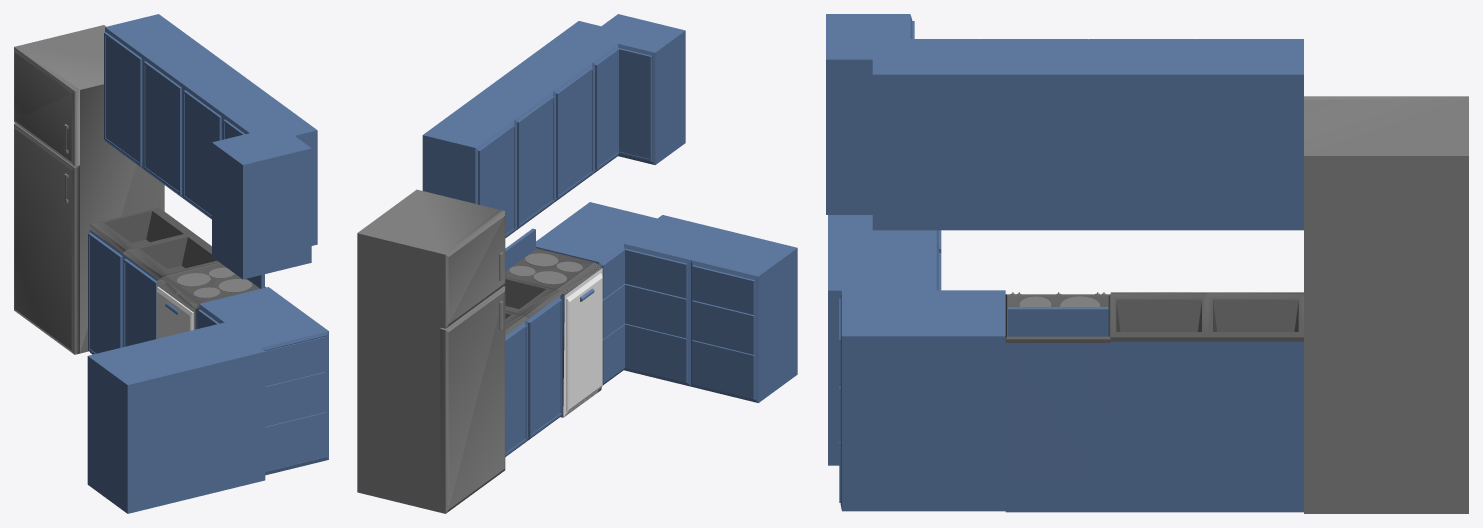
The model's file is fornitures_kitchen.dae.
3 renders of one model, left to right at view 1: azimuth 30°, elevation 25°; view 2: azimuth 150°, elevation 25°; view 3: azimuth 270°, elevation 25°, orthographic. The views are drawn at different scales.
Visible parts, largest first — view 1: Counter002:Base.006; view 2: Counter002:Base.006; view 3: Counter002:Base.006.
Boxes of the visible parts, left/top/right/bottom form: Counter002:Base.006: left=14, top=14, right=328, bottom=513; Counter002:Base.006: left=357, top=14, right=797, bottom=513; Counter002:Base.006: left=826, top=14, right=1468, bottom=513.
Bounding box in the file's own units: 1.72 × 3.33 × 2.5.
1 material, 1 textured.
